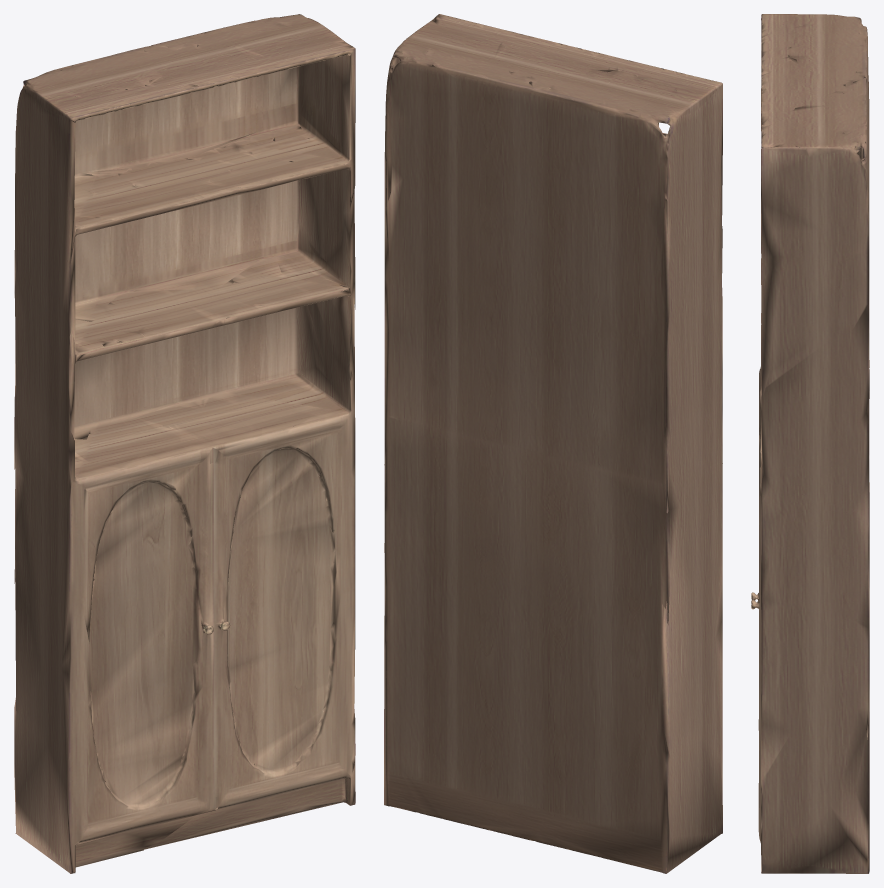
Rendered from meshy-ikea-09483367.glb.
3 renders of one model, left to right at view 1: azimuth 30°, elevation 25°; view 2: azimuth 150°, elevation 25°; view 3: azimuth 270°, elevation 25°, orthographic. The views are drawn at different scales.
Visible parts, largest first — view 1: Exact catalog scale: ikea-09483367; view 2: Exact catalog scale: ikea-09483367; view 3: Exact catalog scale: ikea-09483367.
Boxes of the visible parts, box(x1,y1,x2,y2) form: Exact catalog scale: ikea-09483367: box(14, 14, 355, 873); Exact catalog scale: ikea-09483367: box(384, 14, 722, 873); Exact catalog scale: ikea-09483367: box(751, 14, 869, 873).
Bounding box in the file's own units: 0.8 × 2.02 × 0.298.
Materials: 1 (1 with a texture image).
